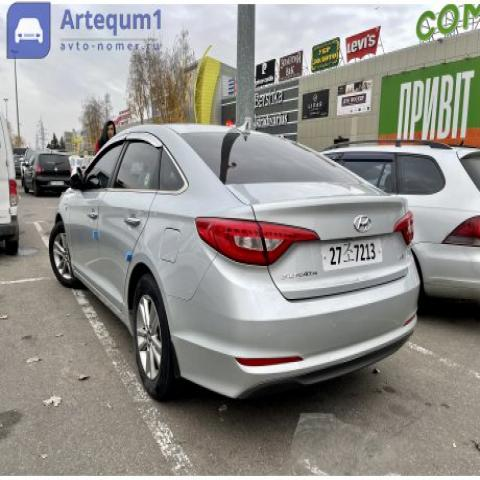LP: (324, 231, 388, 271)
